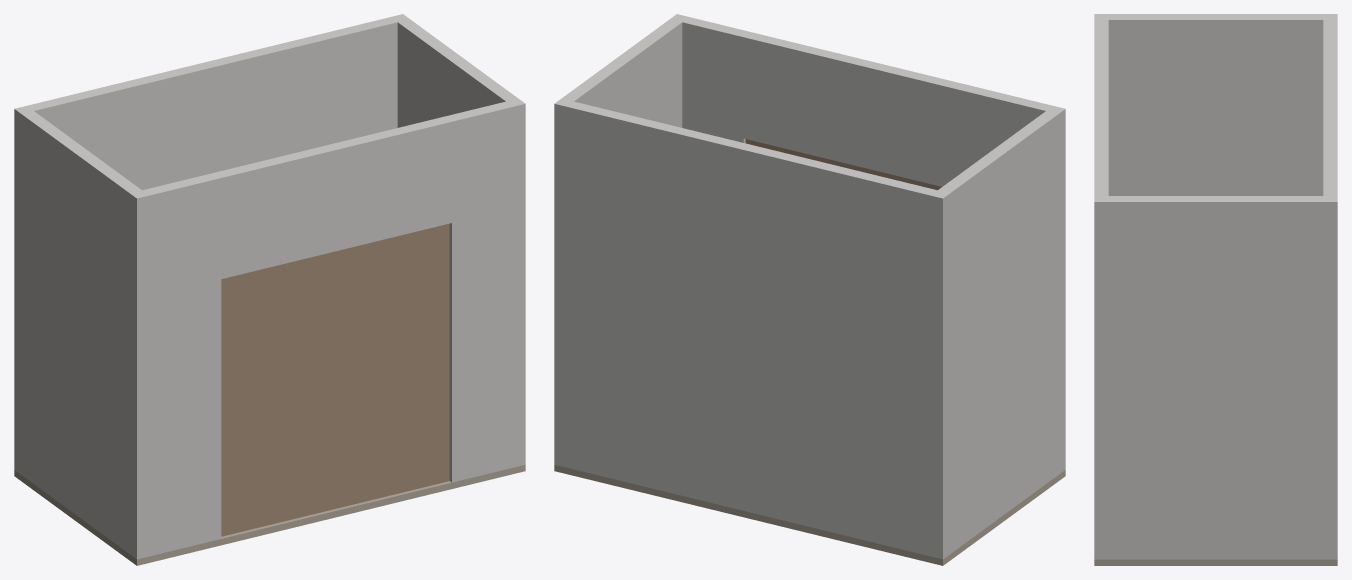
File: room_200.glb
3 views of the same model, side by side, from view 1: azimuth 30°, elevation 25°; view 2: azimuth 150°, elevation 25°; view 3: azimuth 270°, elevation 25° (orthographic).
Visible parts, largest first — view 1: shell_wall_3_door, shell_wall_2_s0, shell_wall_1_s0, shell_wall_3_s0, shell_wall_3_s1, shell_wall_3_s2, shell_wall_0_s0, shell_floor; view 2: shell_wall_1_s0, shell_wall_2_s0, shell_wall_3_s1, shell_wall_0_s0, shell_wall_3_s2, shell_wall_3_s0, shell_floor, shell_wall_3_door; view 3: shell_wall_0_s0, shell_wall_2_s0, shell_wall_1_s0, shell_wall_3_s2, shell_floor, shell_wall_3_s1, shell_wall_3_s0.
Part boxes in pixels (x1=…): shell_wall_3_door: x1=221, y1=223, x2=449, y2=536; shell_wall_2_s0: x1=14, y1=106, x2=149, y2=559; shell_wall_1_s0: x1=14, y1=14, x2=405, y2=474; shell_wall_3_s0: x1=131, y1=173, x2=221, y2=558; shell_wall_3_s1: x1=214, y1=116, x2=451, y2=278; shell_wall_3_s2: x1=445, y1=99, x2=525, y2=482; shell_wall_0_s0: x1=391, y1=14, x2=525, y2=467; shell_floor: x1=14, y1=464, x2=525, y2=565; shell_wall_1_s0: x1=554, y1=101, x2=950, y2=558; shell_wall_2_s0: x1=930, y1=106, x2=1065, y2=559; shell_wall_3_s1: x1=743, y1=32, x2=980, y2=186; shell_wall_0_s0: x1=554, y1=14, x2=688, y2=467; shell_wall_3_s2: x1=671, y1=14, x2=749, y2=143; shell_wall_3_s0: x1=974, y1=88, x2=1065, y2=474; shell_floor: x1=554, y1=464, x2=1065, y2=565; shell_wall_3_door: x1=745, y1=139, x2=941, y2=190; shell_wall_0_s0: x1=1094, y1=196, x2=1337, y2=559; shell_wall_2_s0: x1=1094, y1=14, x2=1337, y2=195; shell_wall_1_s0: x1=1323, y1=14, x2=1337, y2=559; shell_wall_3_s2: x1=1094, y1=166, x2=1108, y2=559; shell_floor: x1=1094, y1=559, x2=1337, y2=565; shell_wall_3_s1: x1=1094, y1=55, x2=1108, y2=166; shell_wall_3_s0: x1=1094, y1=14, x2=1108, y2=54.
Size of the model in its own units: 3.13 by 2.83 by 1.71.
